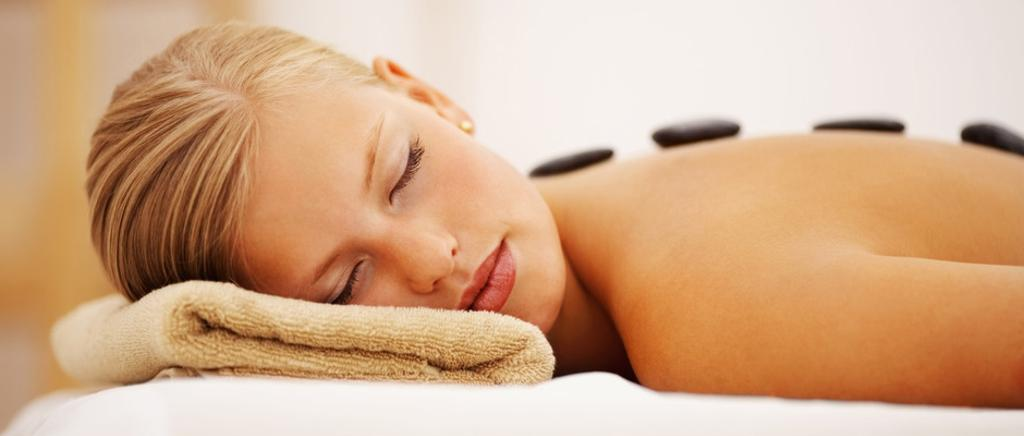face: (216, 114, 566, 330)
